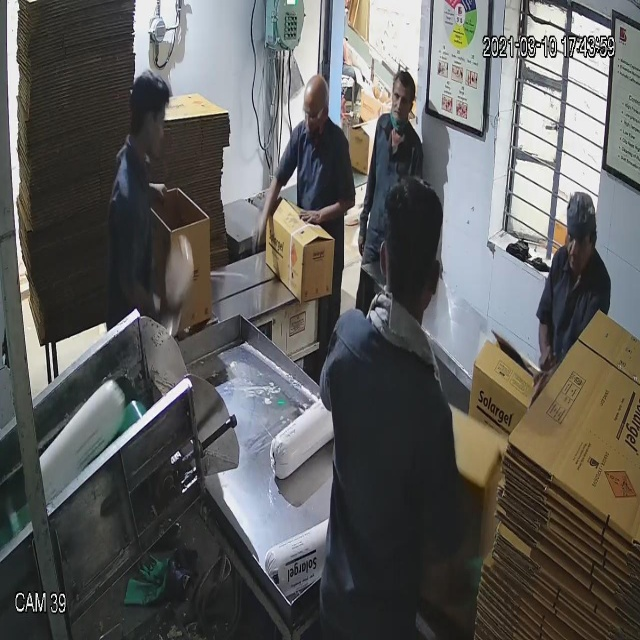Sin_guantes: (245, 172, 294, 261), (299, 187, 351, 237)
